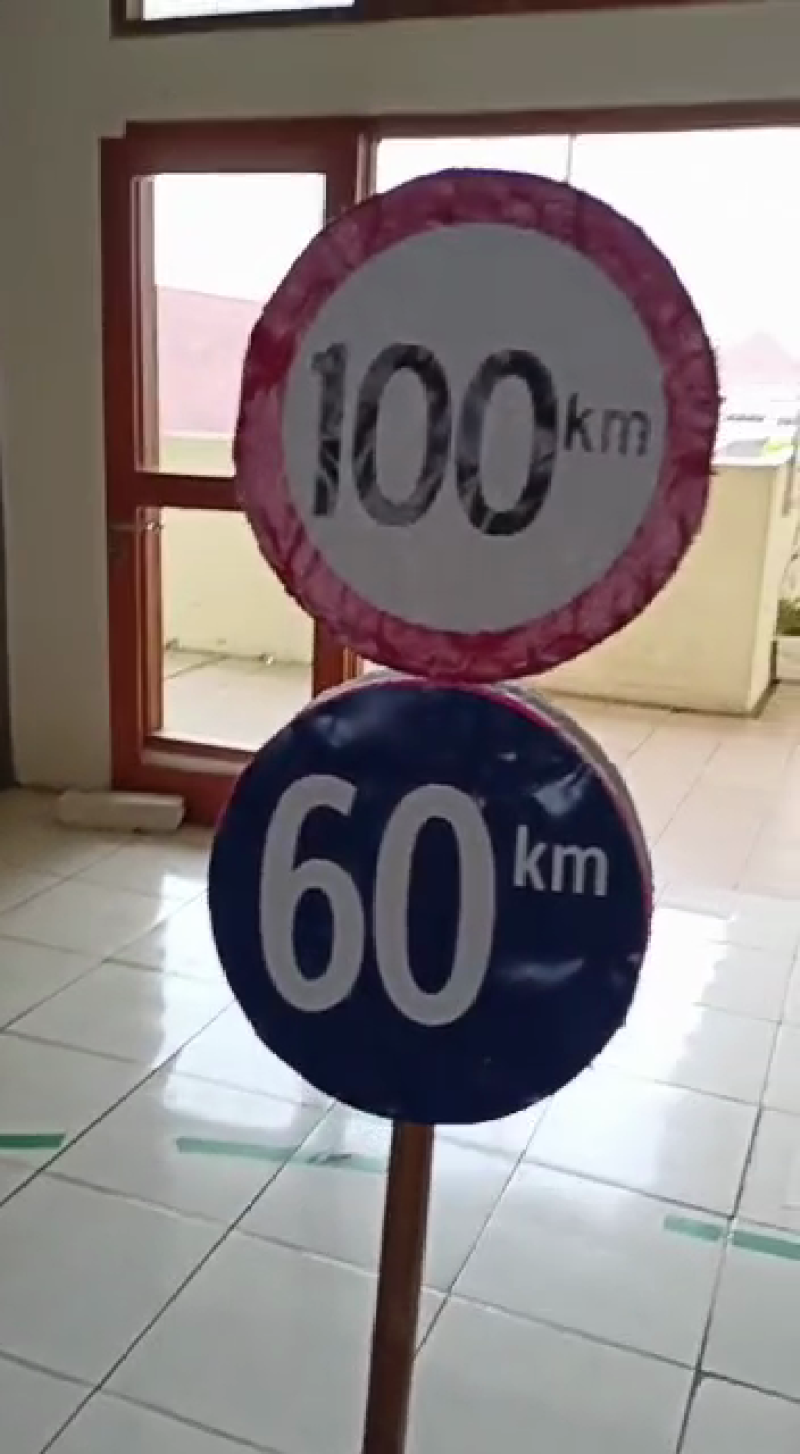batas maksimal 100kmperjam minimal 60kmperjam: (188, 156, 755, 1138)
